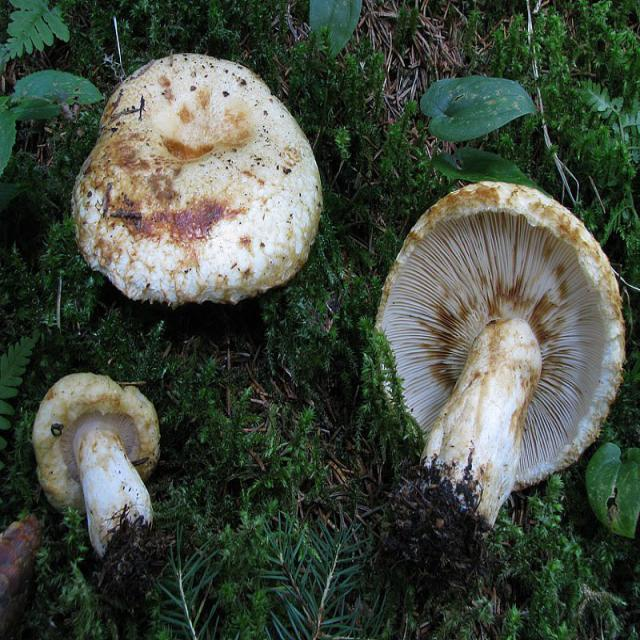Armillaria mellea: (379, 183, 625, 594), (74, 52, 323, 302), (35, 372, 163, 583)
